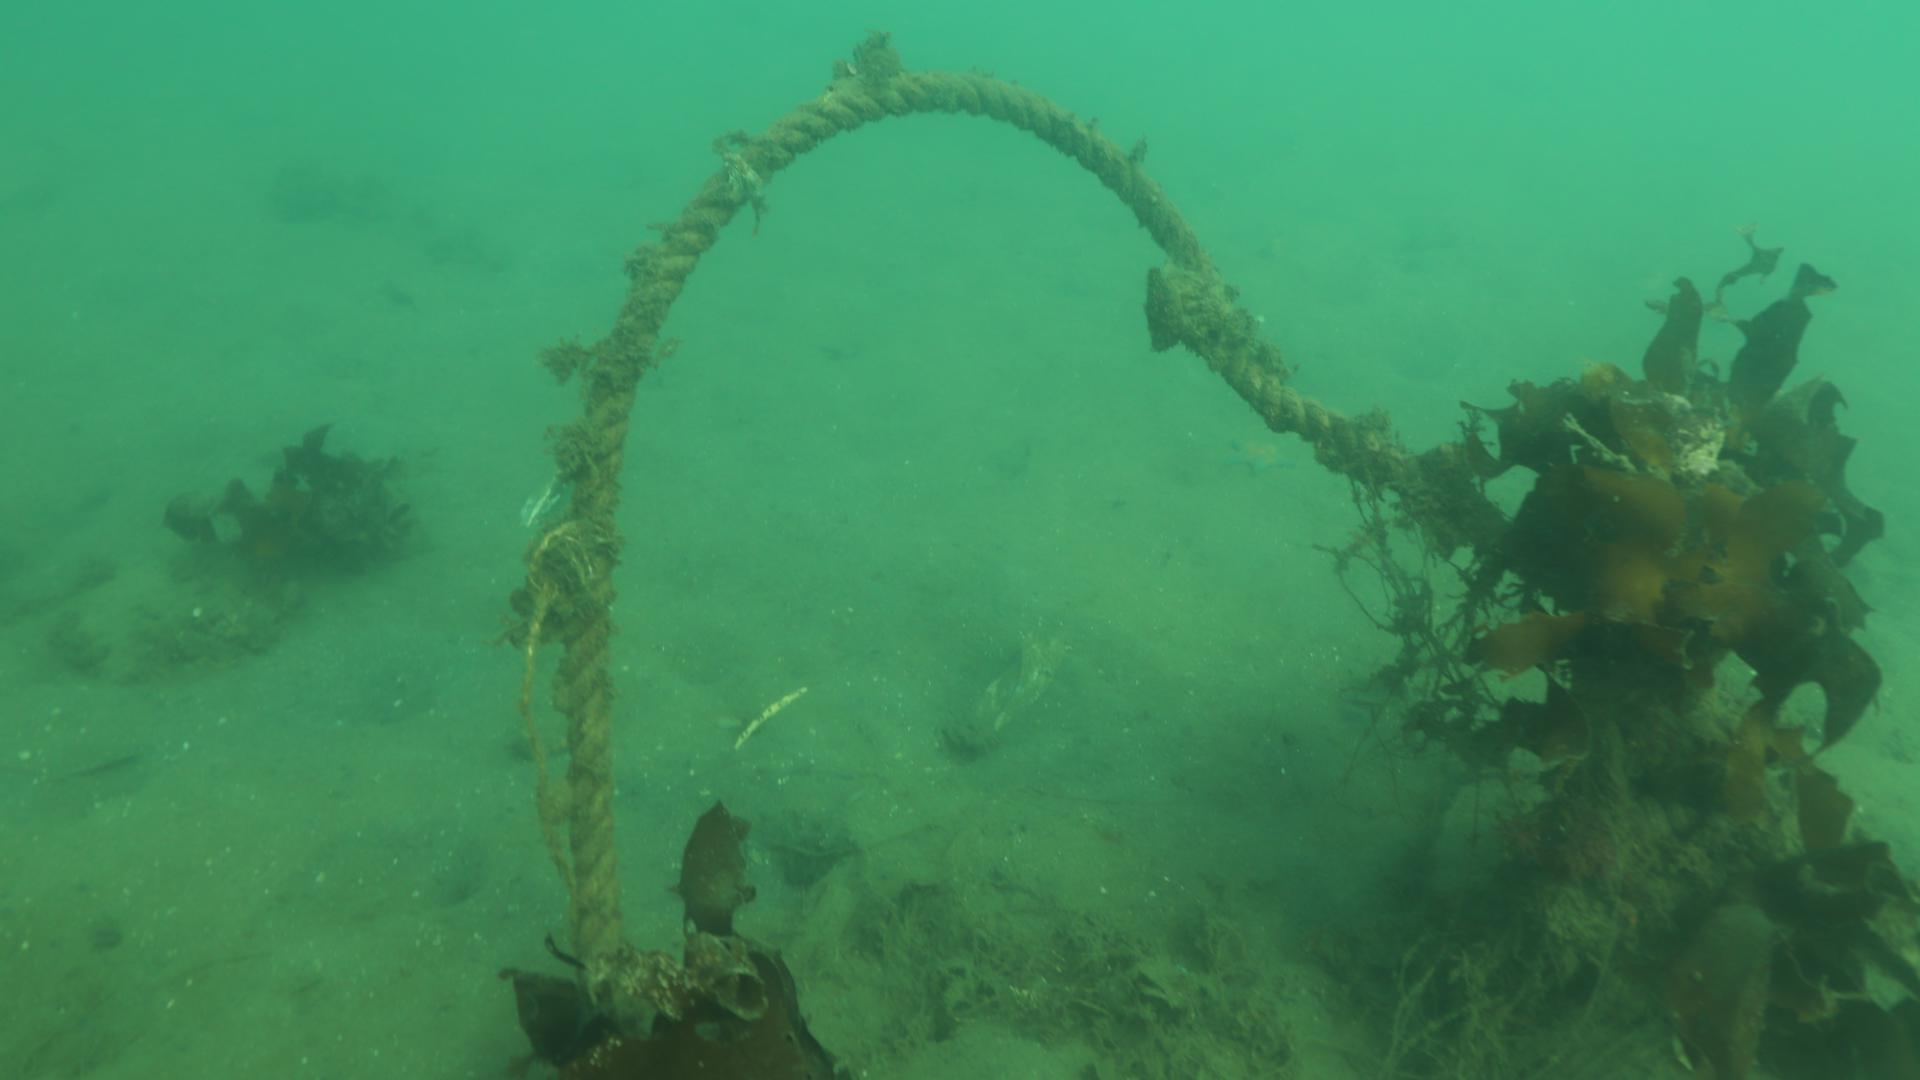rope: (556, 69, 1411, 985)
